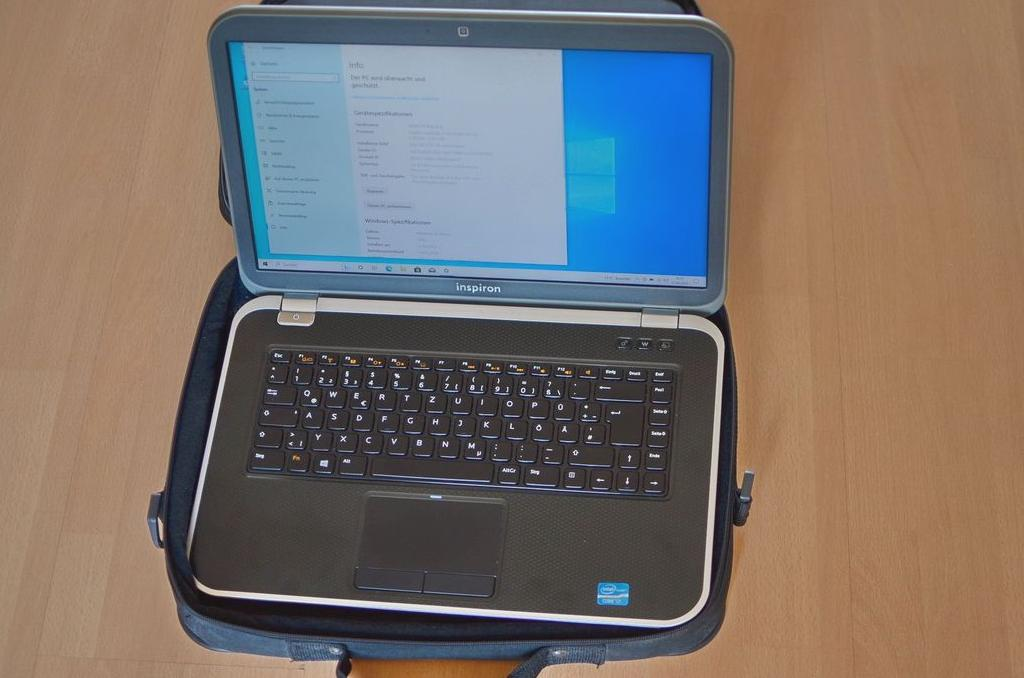0: (514, 374, 536, 395)
1: (289, 363, 310, 383)
2: (313, 363, 335, 384)
3: (338, 365, 360, 385)
4: (363, 366, 385, 386)
5: (387, 367, 409, 388)
6: (412, 368, 435, 389)
7: (439, 370, 460, 390)
8: (463, 370, 486, 392)
9: (489, 372, 511, 393)
a: (300, 405, 321, 426)
accent: (566, 376, 588, 397)
ae: (554, 419, 577, 440)
alt-left: (335, 452, 365, 473)
altgr-right: (495, 461, 519, 482)
b: (408, 432, 432, 453)
c: (358, 430, 380, 450)
caret: (262, 360, 286, 380)
comma: (488, 438, 509, 458)
d: (350, 408, 371, 428)
del: (593, 378, 643, 398)
e: (346, 386, 369, 407)
enter: (602, 399, 641, 443)
f: (374, 408, 396, 429)
g: (400, 410, 422, 430)
h: (425, 412, 447, 432)
hash: (580, 420, 603, 441)
i: (474, 393, 495, 412)
j: (451, 413, 473, 434)
k: (477, 414, 499, 435)
keyboard: (239, 342, 689, 503)
l: (502, 416, 524, 437)
less: (283, 426, 305, 447)
m: (461, 435, 483, 457)
minus: (538, 441, 562, 462)
n: (435, 434, 457, 455)
o: (499, 394, 521, 413)
oe: (528, 417, 551, 438)
p: (525, 395, 547, 415)
plus: (576, 398, 599, 419)
point: (513, 439, 534, 460)
q: (296, 384, 320, 404)
r: (373, 388, 394, 407)
s: (324, 406, 346, 427)
shift-left: (252, 424, 280, 445)
shift-lock: (256, 404, 296, 424)
shift-right: (566, 442, 614, 463)
space: (369, 455, 491, 479)
ss: (539, 375, 563, 396)
strg-left: (252, 449, 284, 471)
strg-right: (521, 463, 558, 484)
t: (398, 389, 419, 408)
tab: (259, 383, 293, 402)
u: (448, 391, 470, 411)
ue: (550, 397, 573, 417)
v: (384, 431, 406, 452)
w: (323, 385, 343, 404)
x: (334, 429, 355, 449)
y: (308, 428, 330, 448)
z: (423, 390, 444, 409)
